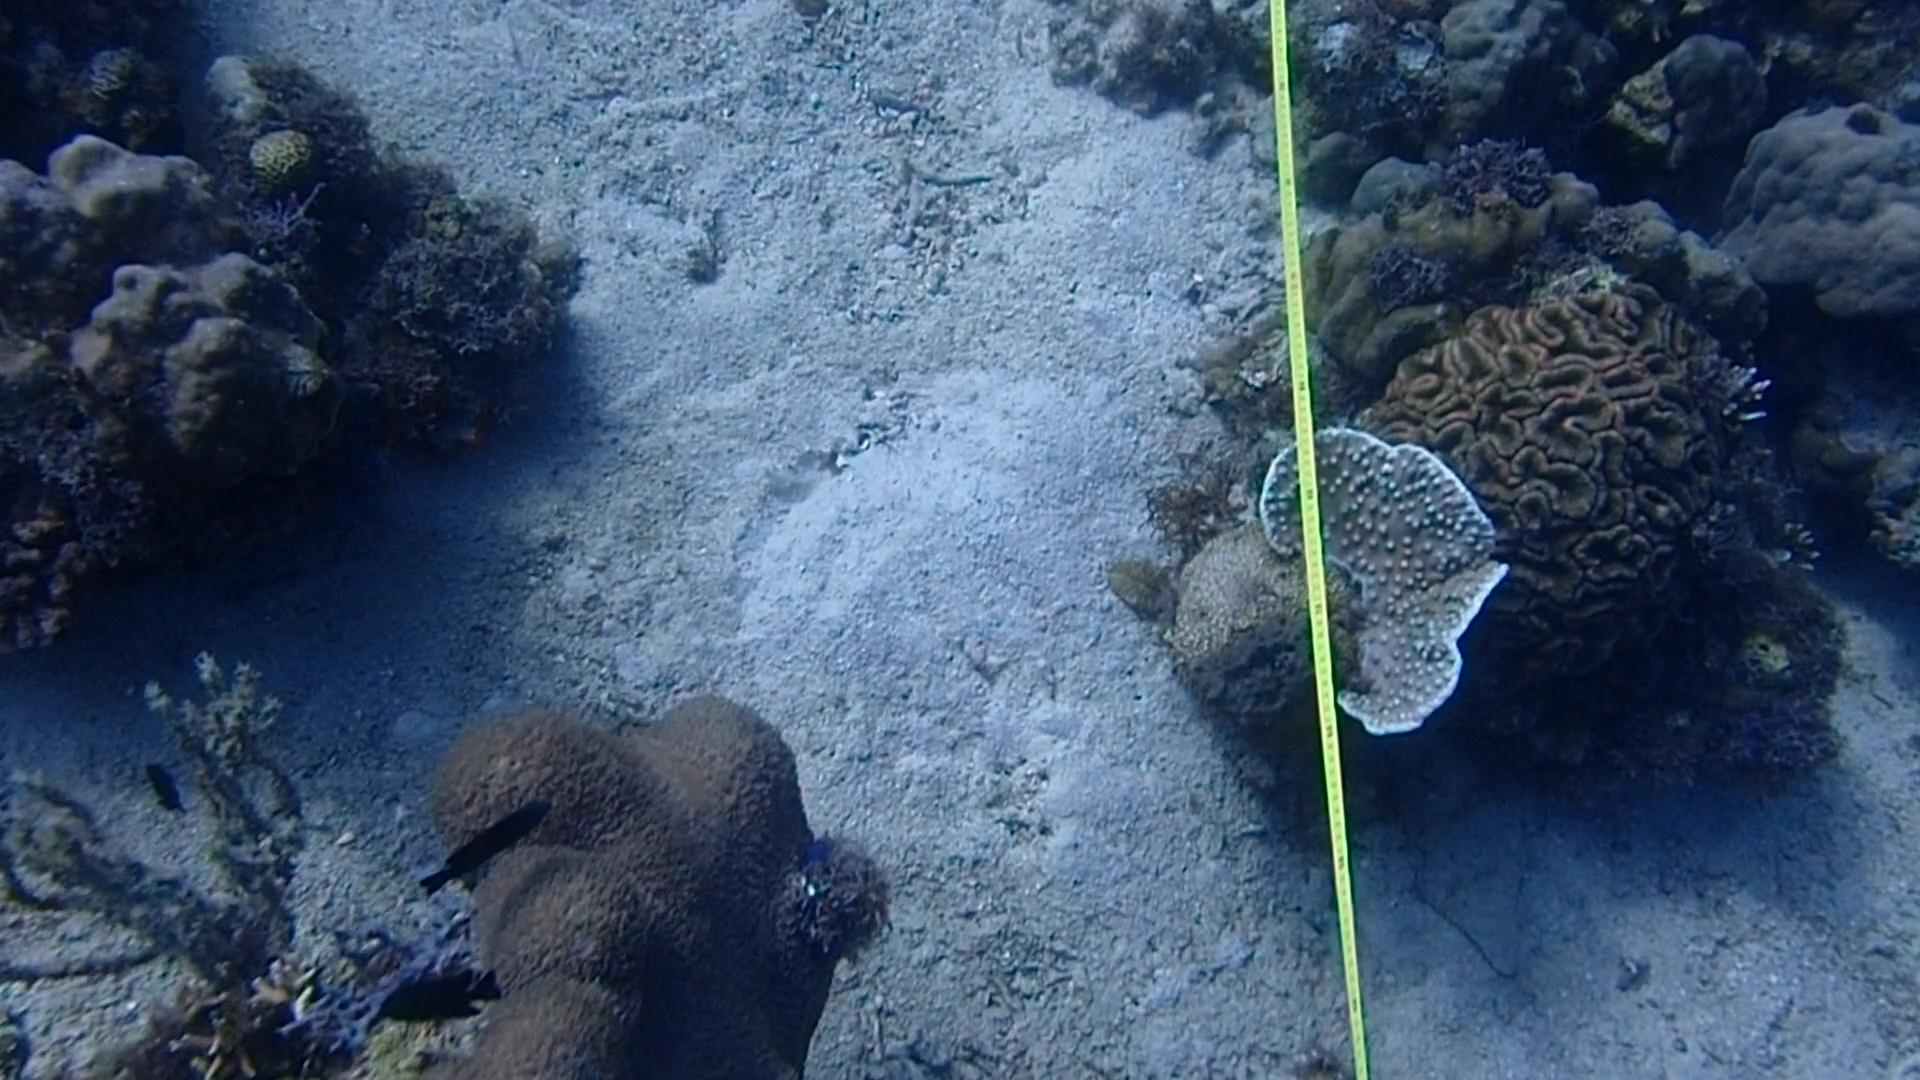Dark Fish: (409, 789, 553, 901), (368, 960, 520, 1031), (127, 760, 198, 831)
